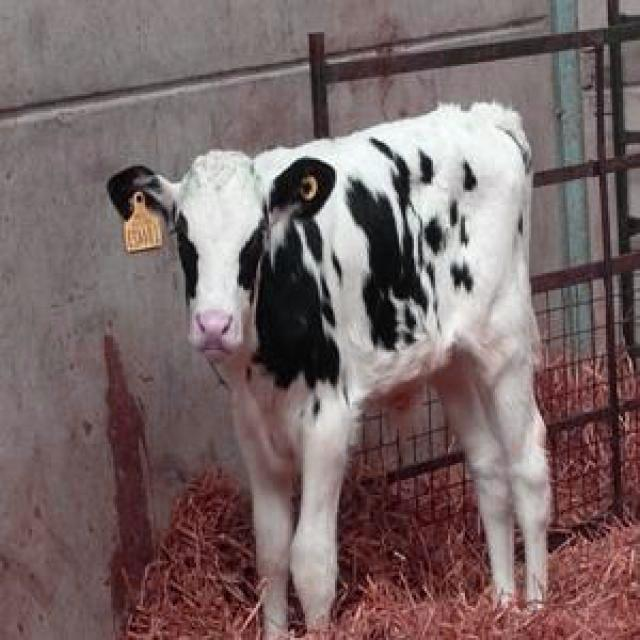cow: (108, 104, 550, 640)
